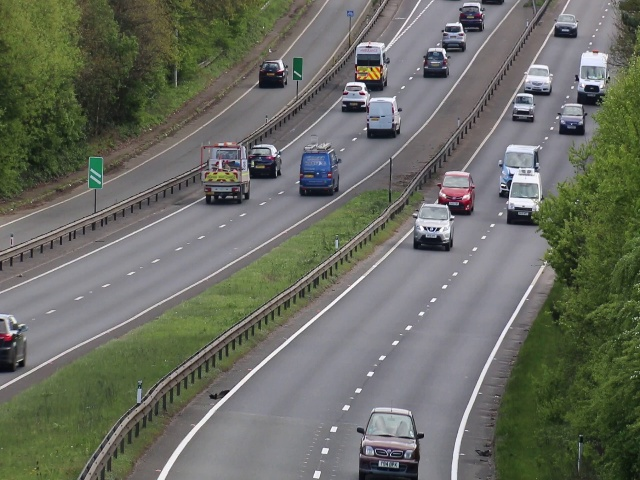car: (355, 404, 423, 480), (203, 142, 250, 204), (298, 140, 340, 195), (414, 202, 454, 250), (504, 175, 541, 225), (1, 312, 31, 370), (577, 50, 608, 102), (354, 41, 388, 88), (366, 97, 404, 137), (439, 172, 473, 214), (249, 140, 283, 179), (504, 141, 540, 172), (258, 55, 290, 89), (522, 62, 554, 93), (558, 104, 586, 135), (423, 45, 449, 78), (458, 1, 483, 31), (443, 21, 466, 53), (553, 11, 578, 38), (344, 82, 366, 112), (513, 93, 534, 121)
